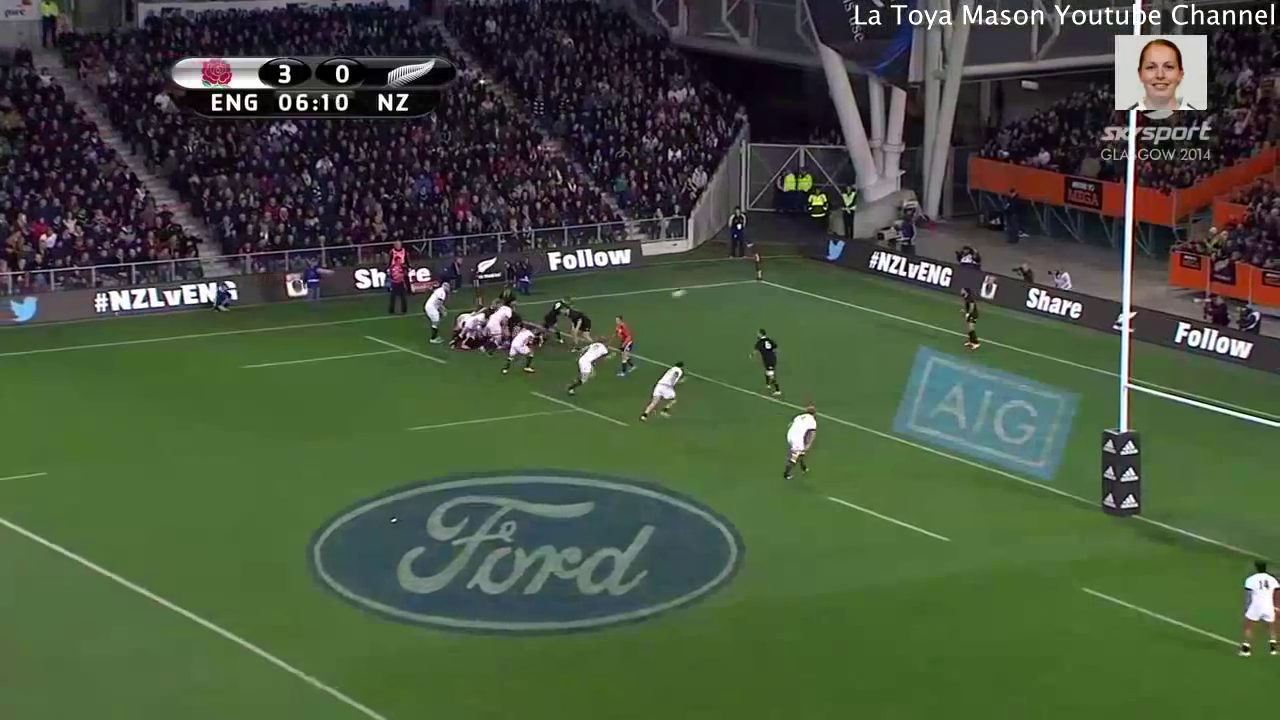ball: (668, 285, 689, 302)
player: (1231, 555, 1280, 663), (774, 401, 826, 487), (637, 359, 693, 427), (741, 324, 785, 400), (562, 334, 613, 399), (953, 284, 993, 358), (422, 281, 453, 350), (500, 325, 537, 379), (609, 314, 640, 378), (536, 296, 573, 344), (485, 302, 516, 356), (558, 306, 595, 350), (495, 288, 516, 308)
post: (1084, 178, 1280, 527)
scrum: (455, 300, 541, 351)
